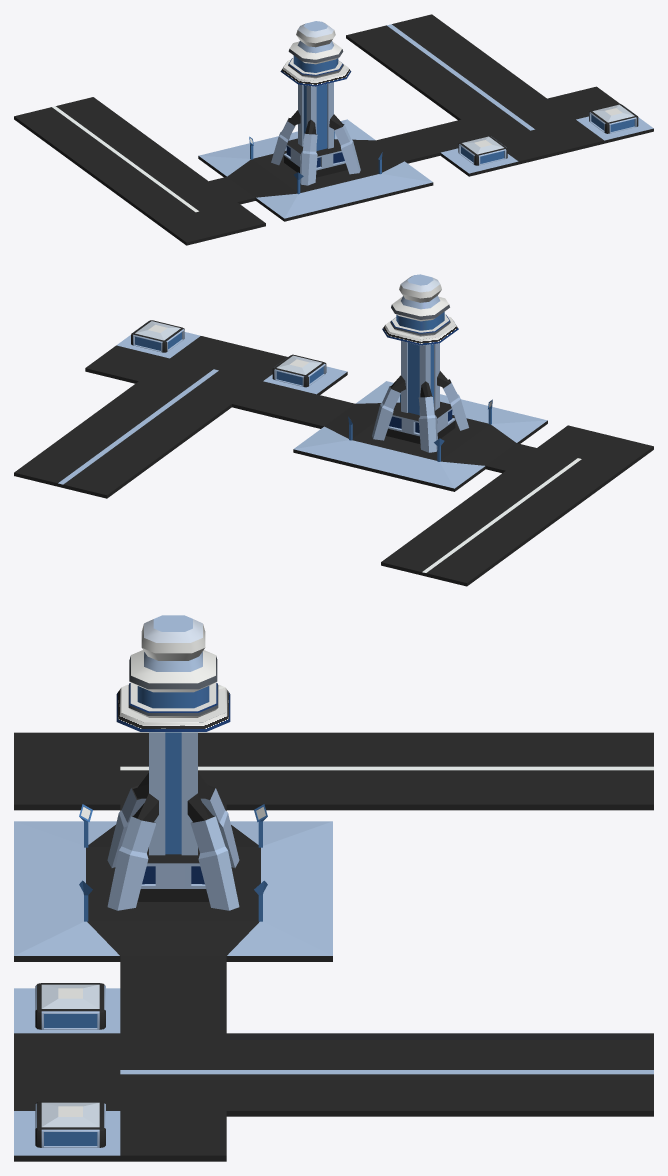
File: KosmodromLevel2.fbx
3 renders of one model, top to bottom at view 1: azimuth 30°, elevation 25°; view 2: azimuth 150°, elevation 25°; view 3: azimuth 270°, elevation 25°, orthographic. The views are drawn at different scales.
Visible parts, largest first — view 1: Cube.005, Cylinder.001, Cube.007, Cube.008, Cube.006, Cube.010, Cube.011; view 2: Cube.005, Cylinder.001, Cube.007, Cube.008, Cube.006, Cube.010, Cube.011; view 3: Cube.005, Cylinder.001, Cube.007, Cube.008, Cube.010, Cube.011, Cube.006, Cube.009.
Boxes of the visible parts, left/top/right/bottom form: Cube.005: left=14, top=14, right=653, bottom=245; Cylinder.001: left=280, top=21, right=351, bottom=86; Cube.007: left=271, top=110, right=360, bottom=185; Cube.008: left=298, top=82, right=333, bottom=151; Cube.006: left=284, top=138, right=347, bottom=177; Cube.010: left=458, top=135, right=507, bottom=165; Cube.011: left=589, top=104, right=638, bottom=133; Cube.005: left=14, top=332, right=653, bottom=586; Cylinder.001: left=382, top=274, right=458, bottom=345; Cube.007: left=372, top=371, right=468, bottom=452; Cube.008: left=401, top=341, right=439, bottom=415; Cube.006: left=385, top=401, right=455, bottom=444; Cube.010: left=272, top=354, right=326, bottom=387; Cube.011: left=131, top=320, right=184, bottom=352; Cube.005: left=14, top=732, right=653, bottom=1161; Cylinder.001: left=116, top=615, right=230, bottom=732; Cube.007: left=107, top=773, right=239, bottom=910; Cube.008: left=149, top=732, right=197, bottom=855; Cube.010: left=35, top=983, right=105, bottom=1029; Cube.011: left=35, top=1101, right=105, bottom=1147; Cube.006: left=137, top=847, right=209, bottom=901; Cube.009: left=79, top=804, right=267, bottom=921.
Size of the model in its own units: 40.78 by 26.07 by 12.17.
Materials: 1 (1 with a texture image).
